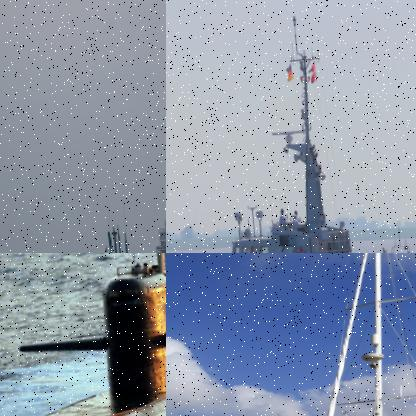Merchant Ship: (0, 236, 47, 252)
Patrol Boat: (166, 4, 415, 252)
Sails Boat: (250, 253, 415, 415)
Submarine: (0, 253, 165, 415), (44, 218, 165, 252)
